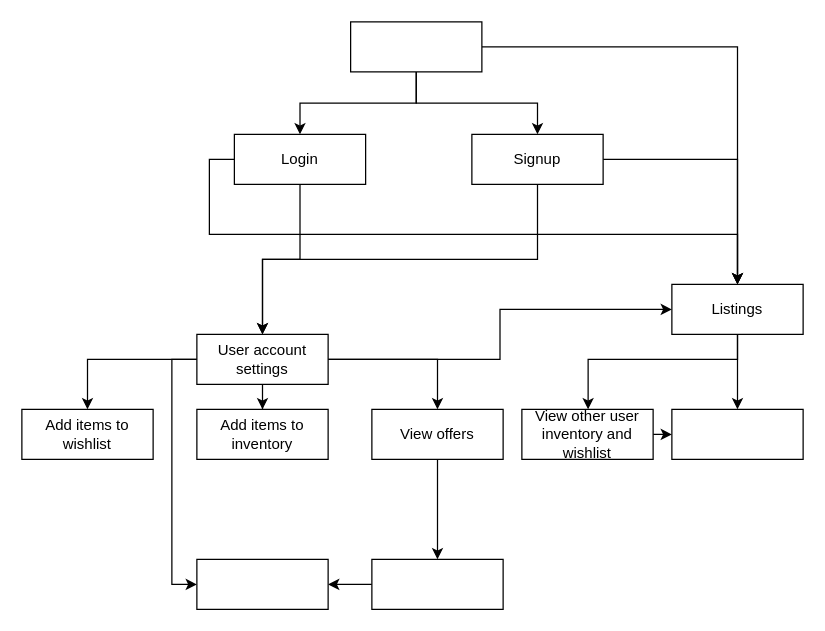
This 825x631 diagram has some shape labels left out. The shapes that lost their labels are listed below. From the top down, each one's box as (x1, y1, x2, y2) in pixels, then its label:
(349, 21, 482, 72): Homepage
(671, 408, 803, 459): make an offer
(196, 558, 328, 609): view completed orders
(371, 558, 503, 609): Accept/reject offer
